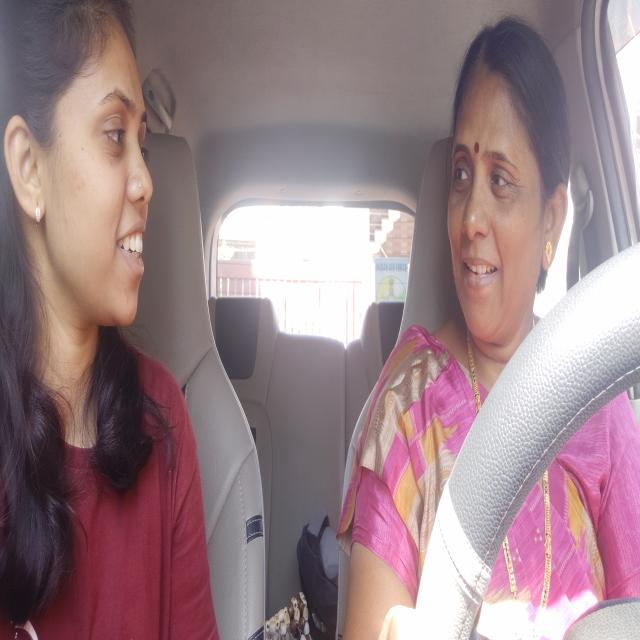LeftRight: (440, 19, 570, 338)
person: (2, 2, 156, 348)
talking: (114, 220, 149, 284), (459, 246, 502, 297)
